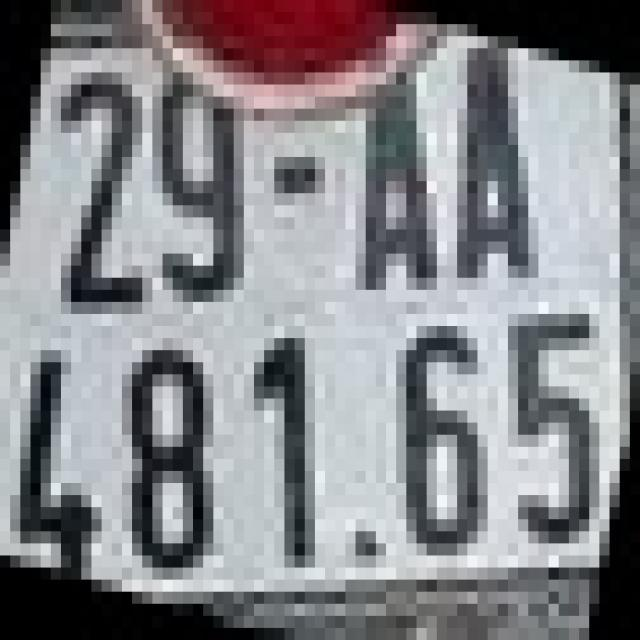1: (254, 326, 325, 568)
2: (51, 72, 152, 314)
4: (10, 350, 102, 568)
5: (508, 302, 600, 544)
6: (396, 314, 488, 555)
8: (122, 338, 214, 580)
9: (152, 72, 244, 302)
A: (447, 48, 549, 290), (355, 84, 437, 290)
